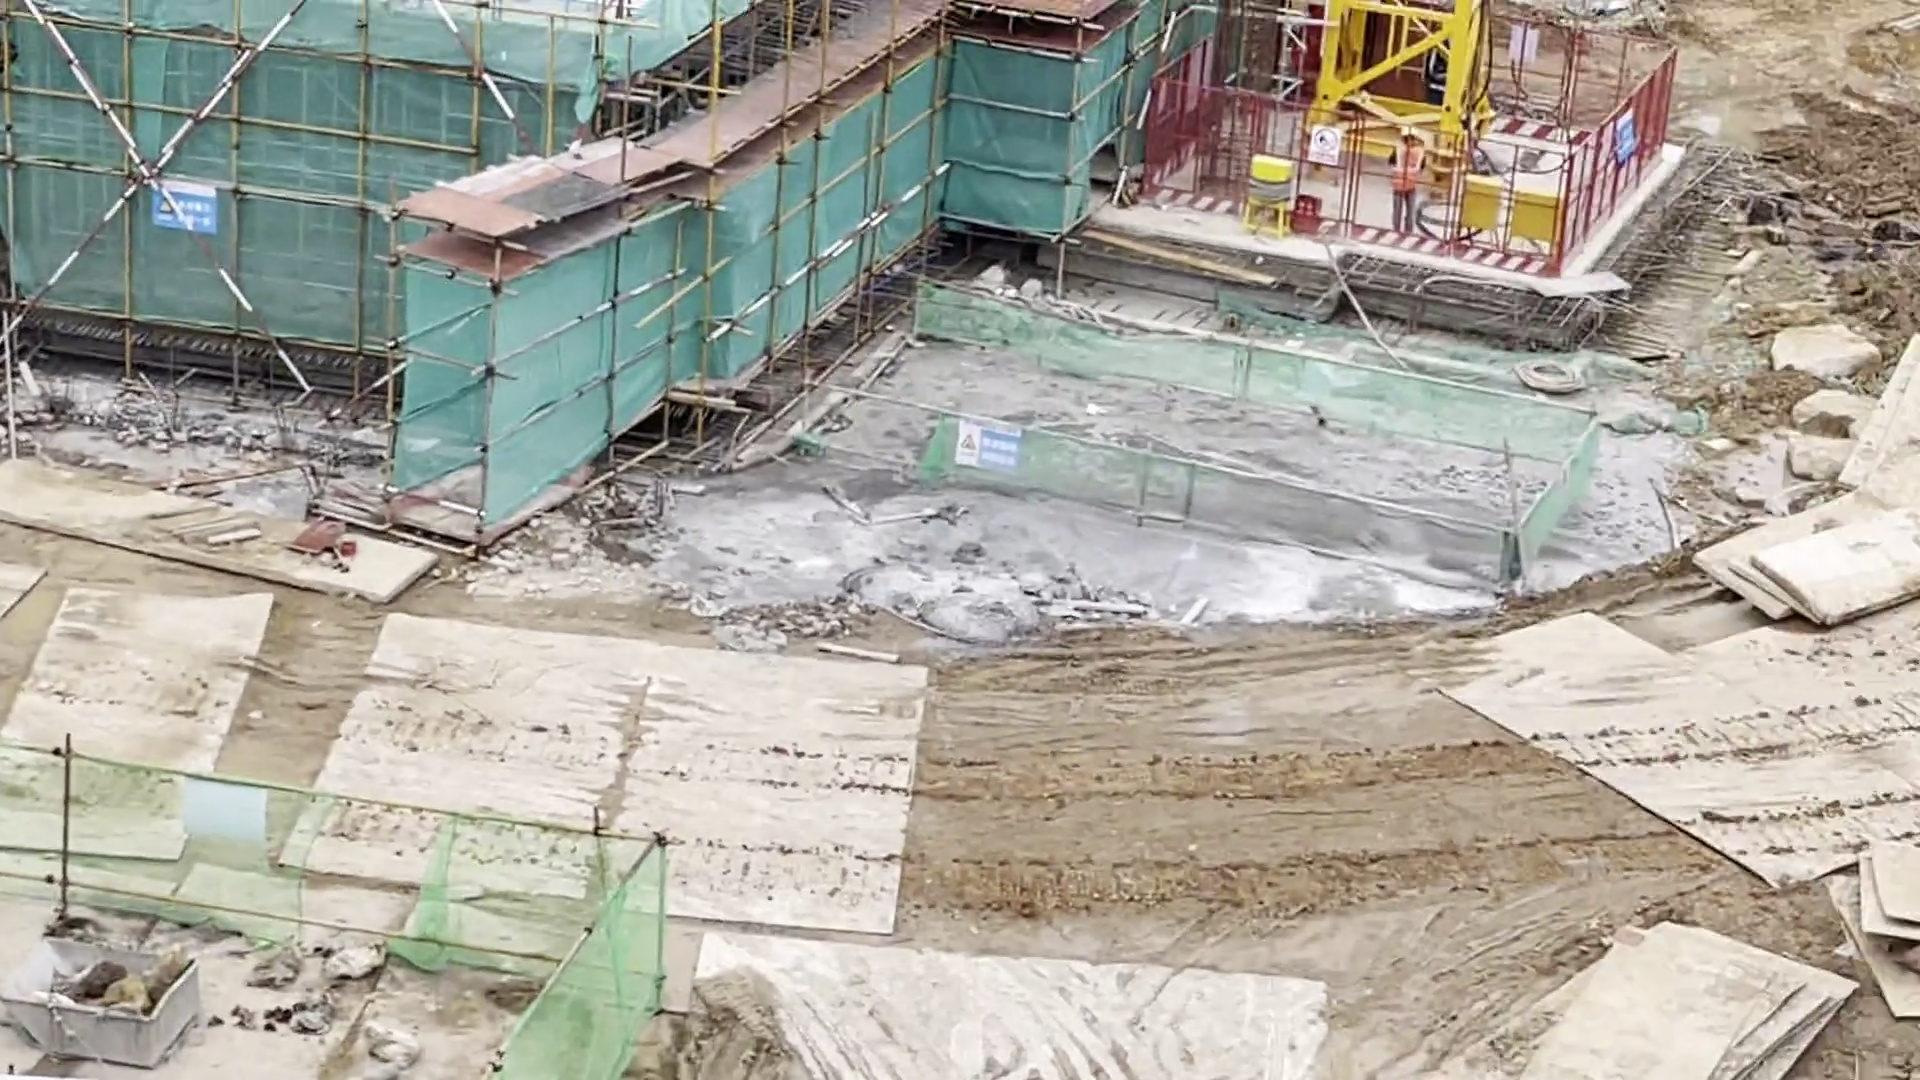person: (1392, 125, 1423, 235)
vest: (1393, 143, 1423, 193)
